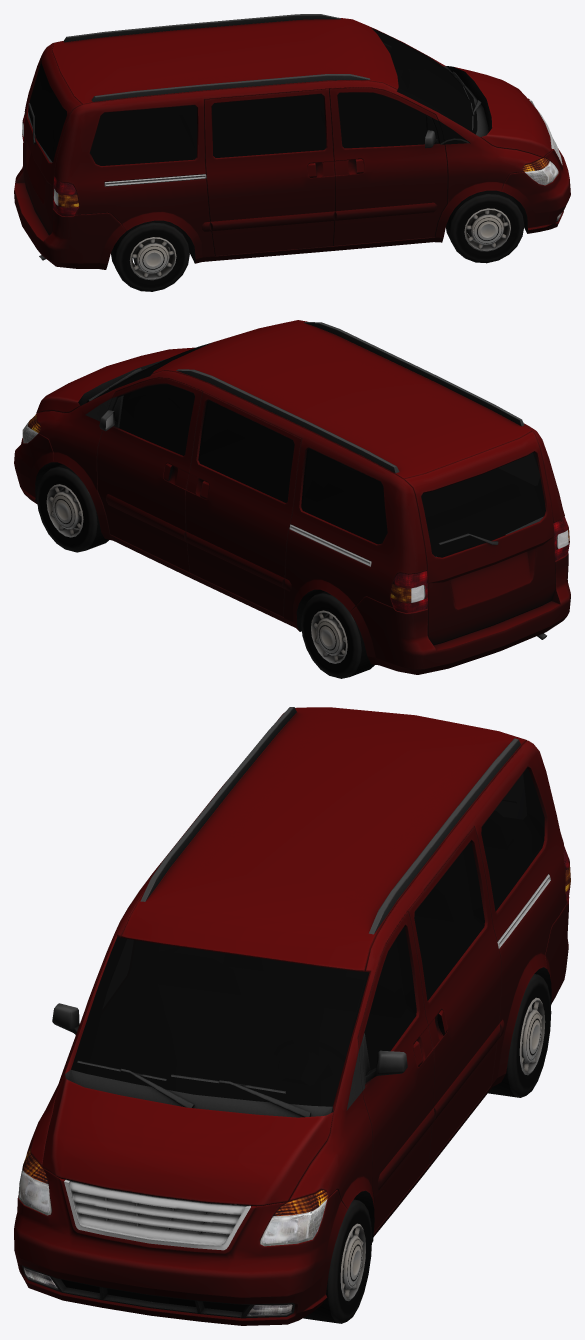
The model's file is Minivan.glb.
3 renders of one model, top to bottom at view 1: azimuth 30°, elevation 25°; view 2: azimuth 150°, elevation 25°; view 3: azimuth 270°, elevation 25°, orthographic. The views are drawn at different scales.
Visible parts, largest first — view 1: Minivan_BodyShell, Minivan_Glass, Minivan_WheelFrontRight_Tire, Minivan_WheelRearRight_Tire, Minivan_Lights; view 2: Minivan_BodyShell, Minivan_Glass, Minivan_WheelRearLeft_Tire, Minivan_WheelFrontLeft_Tire, Minivan_Lights; view 3: Minivan_BodyShell, Minivan_Glass, Minivan_Lights, Minivan_WheelFrontLeft_Tire, Minivan_WheelRearLeft_Tire.
Part boxes in pixels (x1,y1,x2,y2): Minivan_BodyShell: (14,14,570,269); Minivan_Glass: (28,28,477,165); Minivan_WheelFrontRight_Tire: (446,190,524,263); Minivan_WheelRearRight_Tire: (111,220,189,291); Minivan_Lights: (22,113,561,219); Minivan_BodyShell: (14,320,570,674); Minivan_Glass: (93,342,545,557); Minivan_WheelRearLeft_Tire: (301,591,374,678); Minivan_WheelFrontLeft_Tire: (37,464,108,552); Minivan_Lights: (22,414,569,613); Minivan_BodyShell: (14,707,569,1325); Minivan_Glass: (71,768,544,1106); Minivan_Lights: (18,846,570,1315); Minivan_WheelFrontLeft_Tire: (303,1199,372,1323); Minivan_WheelRearLeft_Tire: (488,974,551,1097).
Size of what is drawn, in the model's own units: 4.62 by 1.76 by 2.81.
4 materials, 3 textured.
